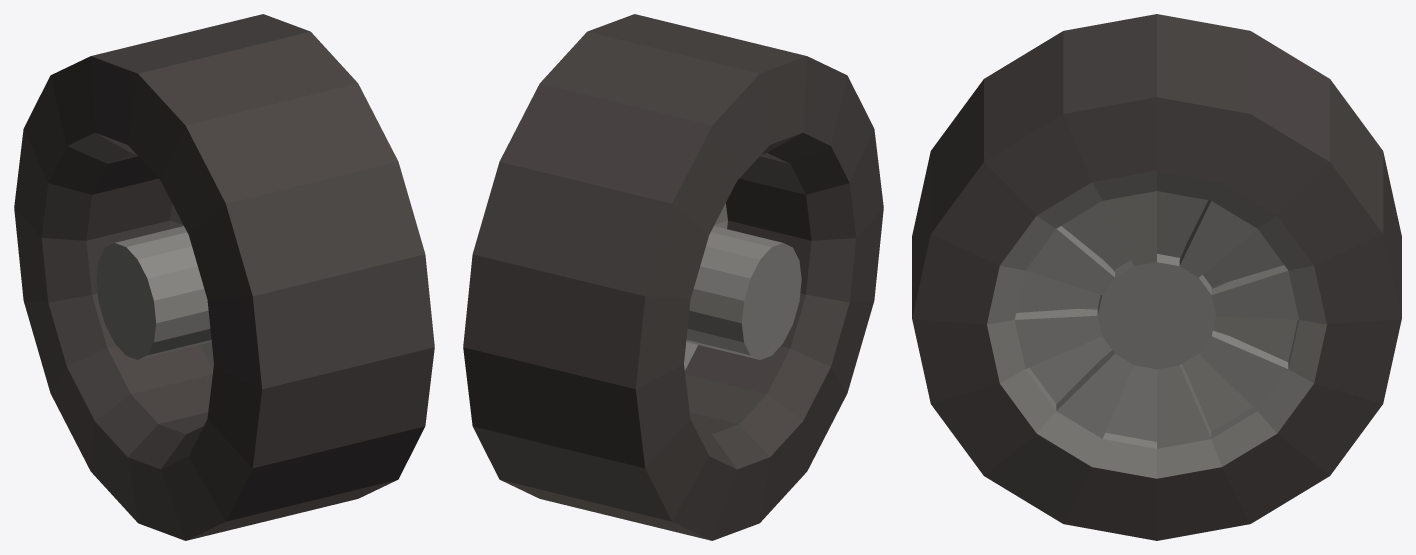
File: Wheel.fbx
3 views of the same model, side by side, from view 1: azimuth 30°, elevation 25°; view 2: azimuth 150°, elevation 25°; view 3: azimuth 270°, elevation 25° (orthographic).
Parts seen in each view (by area): view 1: lowpoly:Wheel; view 2: lowpoly:Wheel; view 3: lowpoly:Wheel.
Boxes of the visible parts, x1,y1,x2,y2 form: lowpoly:Wheel: (14, 14, 434, 540); lowpoly:Wheel: (463, 14, 883, 540); lowpoly:Wheel: (912, 14, 1401, 540).
Bounding box in the file's own units: 0.733 × 1.61 × 1.61.
